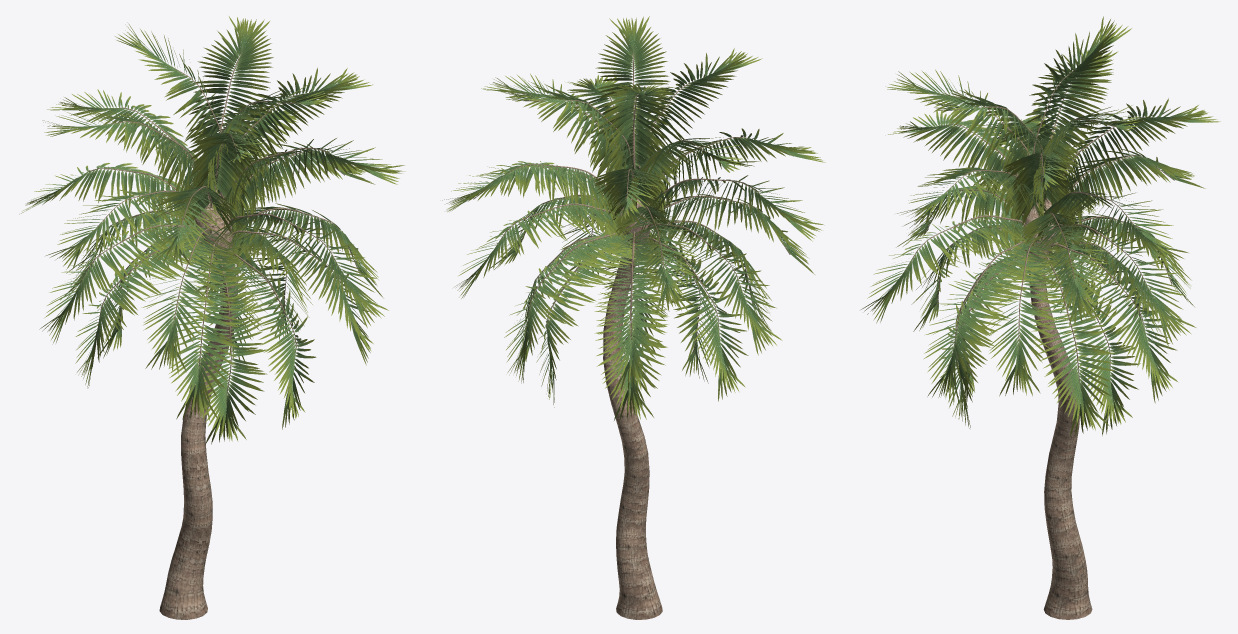
Rendered from realistic_palm_tree_5_free.glb.
3 renders of one model, left to right at view 1: azimuth 30°, elevation 25°; view 2: azimuth 150°, elevation 25°; view 3: azimuth 270°, elevation 25°, orthographic. The views are drawn at different scales.
Visible parts, largest first — view 1: palm_leaf_1 - copy_2, palm_leaf_1 - copy_3, palm_trunk_6_0, trunk_2_1_1; view 2: palm_leaf_1 - copy_2, palm_leaf_1 - copy_3, palm_trunk_6_0, trunk_2_1_1; view 3: palm_leaf_1 - copy_2, palm_leaf_1 - copy_3, palm_trunk_6_0, trunk_2_1_1.
Boxes of the visible parts, bbox=[...] form: palm_leaf_1 - copy_2: bbox=[19, 16, 405, 374]; palm_leaf_1 - copy_3: bbox=[39, 210, 383, 444]; palm_trunk_6_0: bbox=[159, 196, 237, 619]; trunk_2_1_1: bbox=[48, 54, 359, 396]; palm_leaf_1 - copy_2: bbox=[442, 16, 825, 313]; palm_leaf_1 - copy_3: bbox=[487, 209, 782, 420]; palm_trunk_6_0: bbox=[603, 195, 662, 619]; trunk_2_1_1: bbox=[473, 53, 793, 376]; palm_leaf_1 - copy_2: bbox=[861, 16, 1220, 367]; palm_leaf_1 - copy_3: bbox=[911, 188, 1194, 437]; palm_trunk_6_0: bbox=[1023, 200, 1092, 619]; trunk_2_1_1: bbox=[905, 70, 1179, 383].
Bounding box in the file's own units: 9.27 × 14.19 × 8.26.
4 materials, 4 textured.
